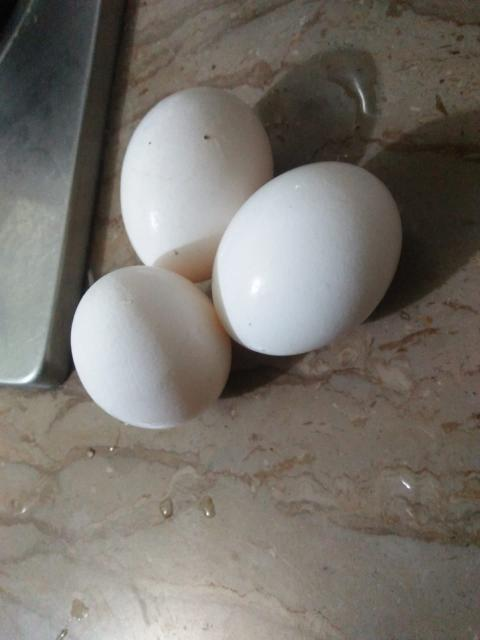Sano: (209, 162, 404, 353), (120, 88, 268, 275), (70, 266, 231, 428)
